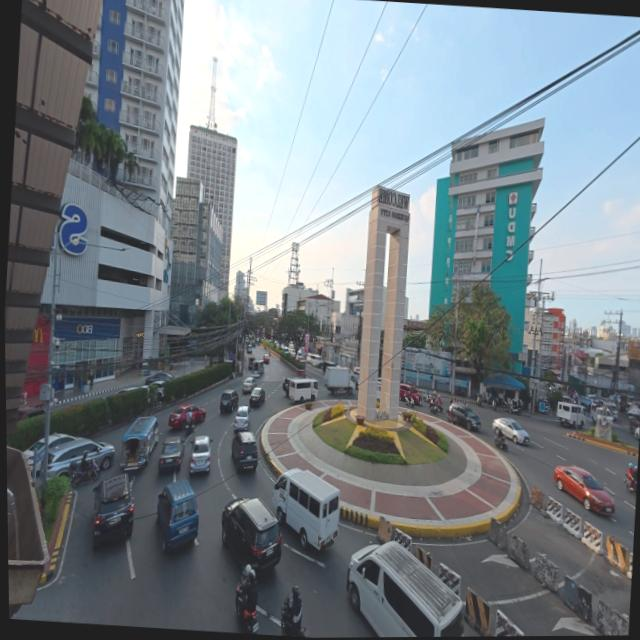car: (153, 480, 205, 558), (230, 427, 262, 471), (492, 416, 532, 448), (185, 434, 214, 477), (448, 404, 483, 433), (232, 406, 251, 431)
vans: (280, 375, 318, 404)
